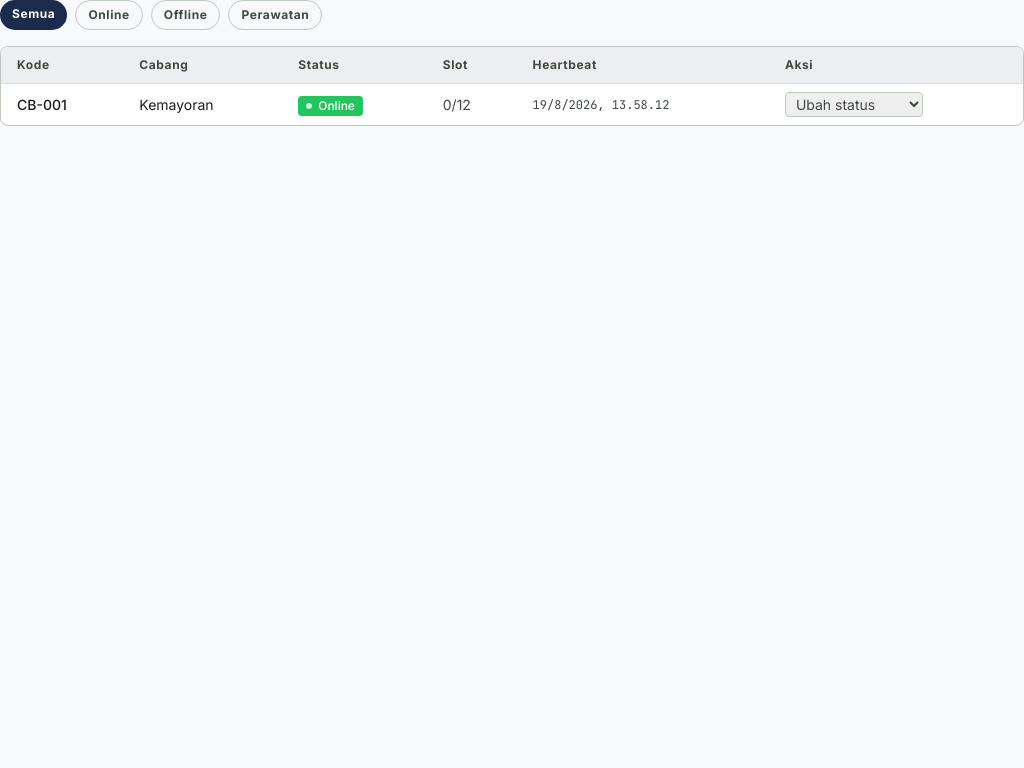
Test case: CabinetMaintenanceTable › should cancel the status change
Expected: the text "CB-001" is shown, [1,84,123,125]
Select "OFFLINE" in the dropdown at [854, 104], box [785,92,923,117]
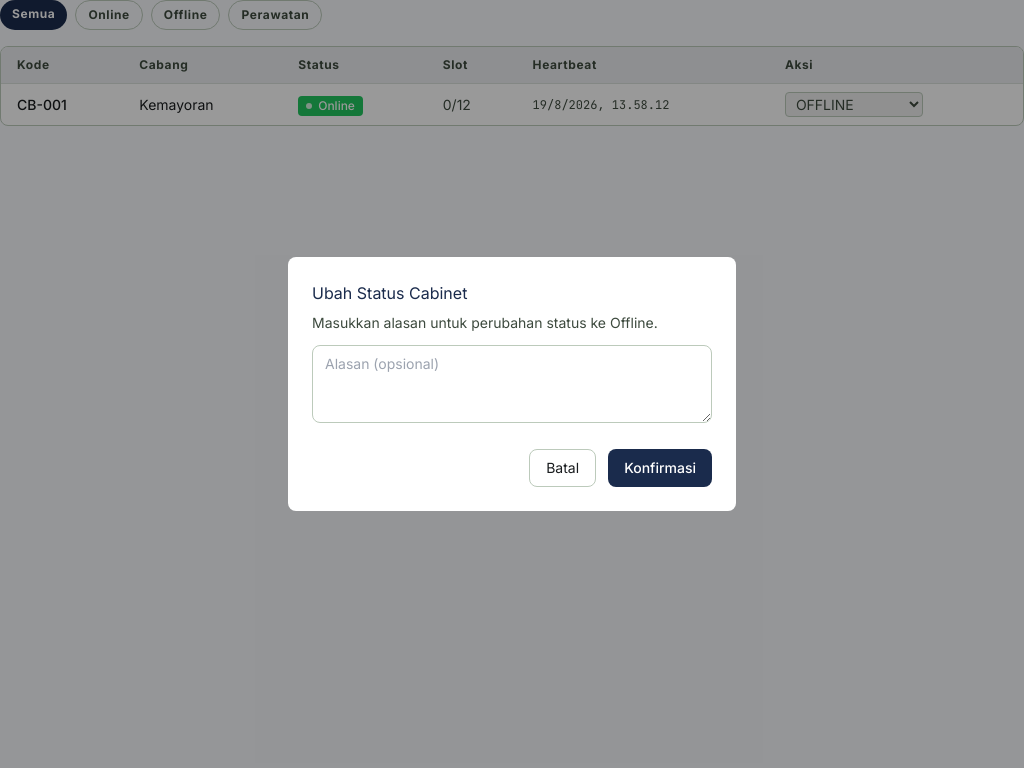
Expected: the heading "Ubah Status Cabinet" is shown, [312,283,467,303]
Click the button "Batal".
click(563, 468)  # box [529,449,596,487]
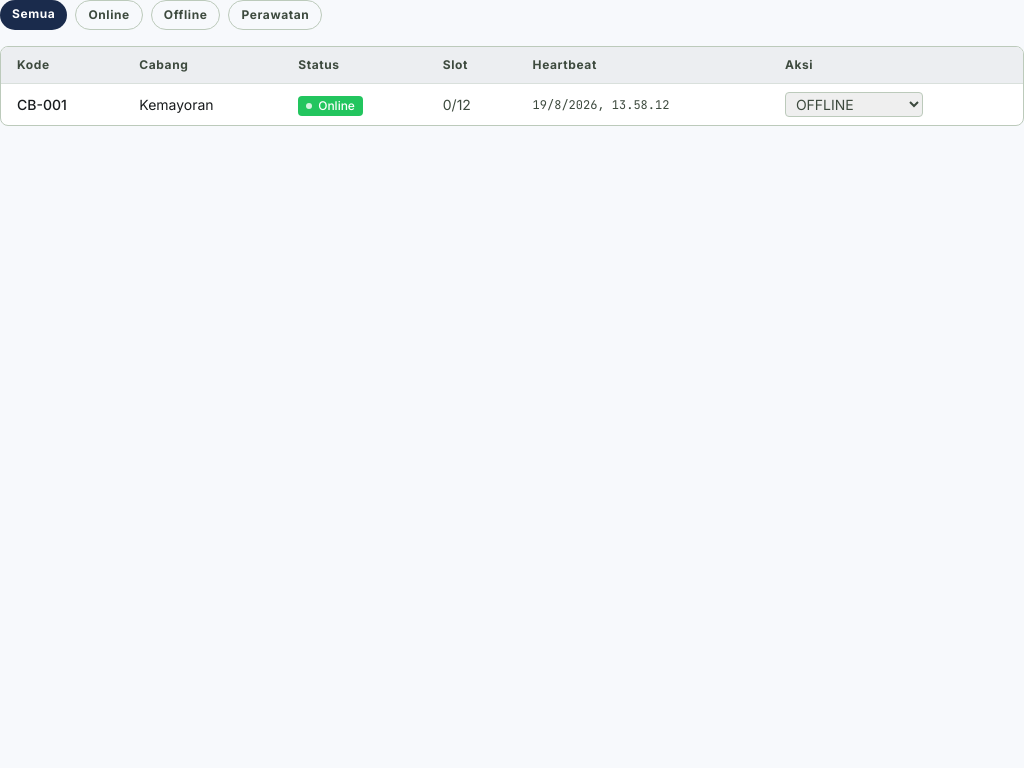
Expected: the heading "Ubah Status Cabinet" is gone
